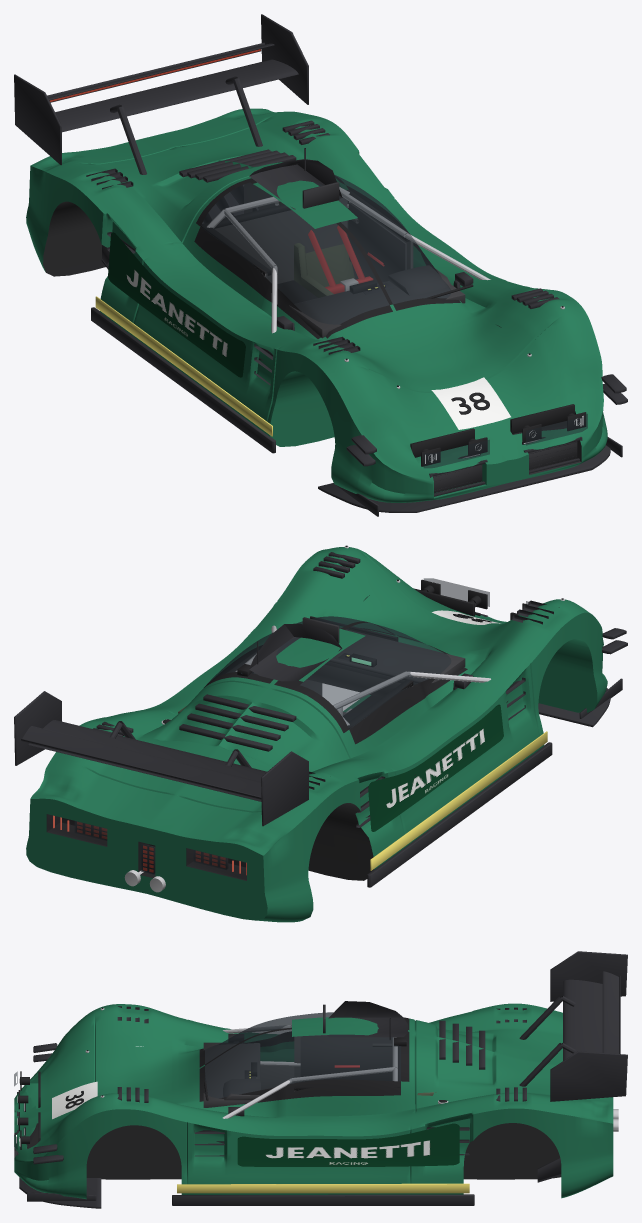
File: jeanetti_lmp2.glb
3 views of the same model, one above another, from view 1: azimuth 30°, elevation 25°; view 2: azimuth 150°, elevation 25°; view 3: azimuth 270°, elevation 25° (orthographic). The views are drawn at different scales.
Visible parts, largest first — view 1: jeanetti_lmp2; view 2: jeanetti_lmp2; view 3: jeanetti_lmp2.
Part boxes in pixels (x1=…): jeanetti_lmp2: x1=14, y1=14, x2=627, y2=516; jeanetti_lmp2: x1=14, y1=545, x2=627, y2=922; jeanetti_lmp2: x1=14, y1=951, x2=627, y2=1208.
Bounding box in the file's own units: 2.13 × 1.33 × 4.87.
26 materials, 1 textured.
